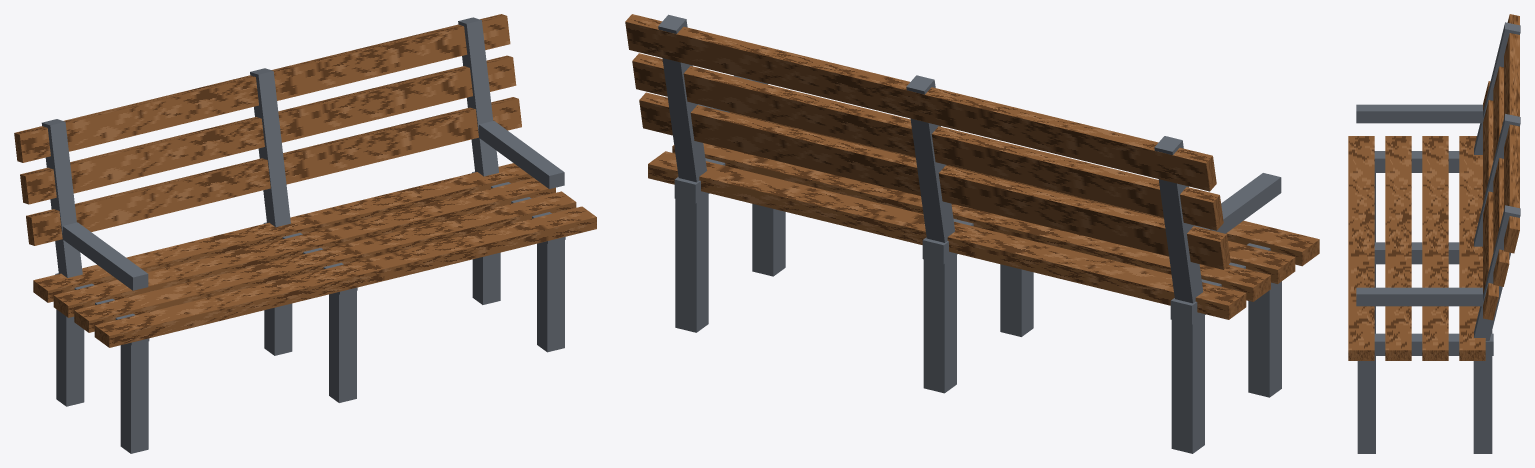
Rendered from urb_park_bench.glb.
The picture shows the model from 3 angles, left to right: view 1: azimuth 30°, elevation 25°; view 2: azimuth 150°, elevation 25°; view 3: azimuth 270°, elevation 25°; orthographic projection. The views are drawn at different scales.
Parts seen in each view (by area): view 1: wood, iron; view 2: wood, iron; view 3: wood, iron.
Boxes of the visible parts, x1,y1,x2,y2 form: wood: [14, 14, 596, 347]; iron: [41, 17, 565, 453]; wood: [625, 14, 1319, 319]; iron: [658, 14, 1281, 453]; wood: [1348, 14, 1519, 360]; iron: [1356, 22, 1520, 453].
Size of the model in its own units: 1.92 by 1.01 by 0.6526.
Materials: 2 (1 with a texture image).
